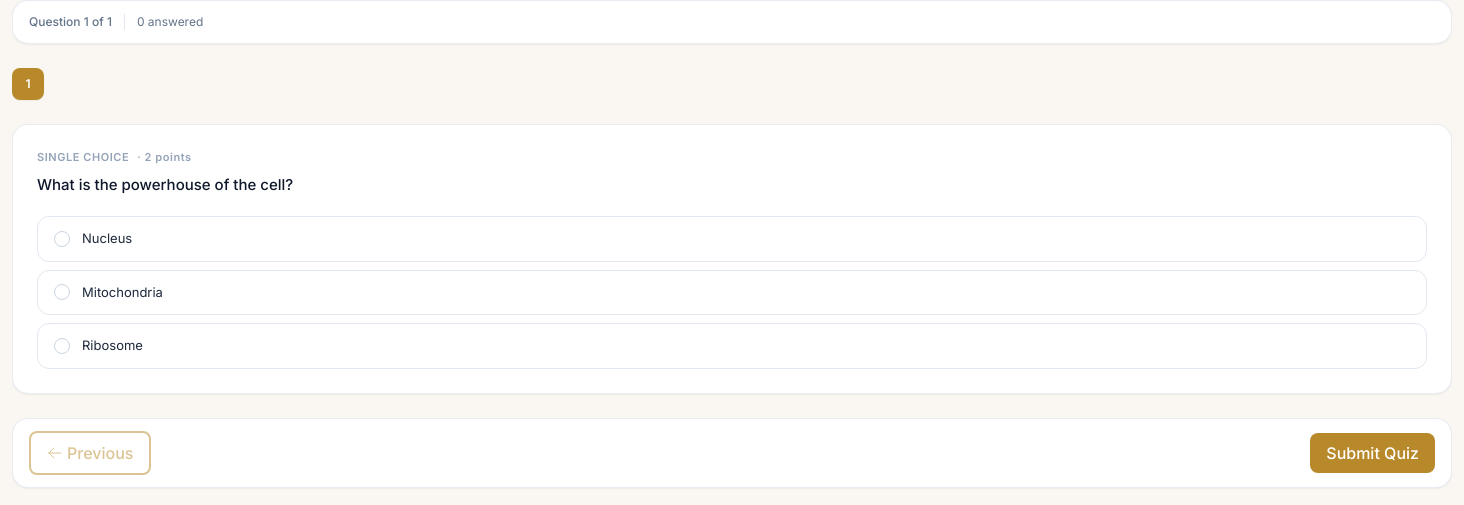
Test: QuizPlayerPage › shows "You passed!" heading after successful submission
The width and height of the screenshot is (1464, 505).
Check: the text "What is the powerhouse of the cell?" is shown, box [37,174,293,194]
Step 1. Click the button "Submit Quiz" → (1373, 452), box [1310,432,1435,472]
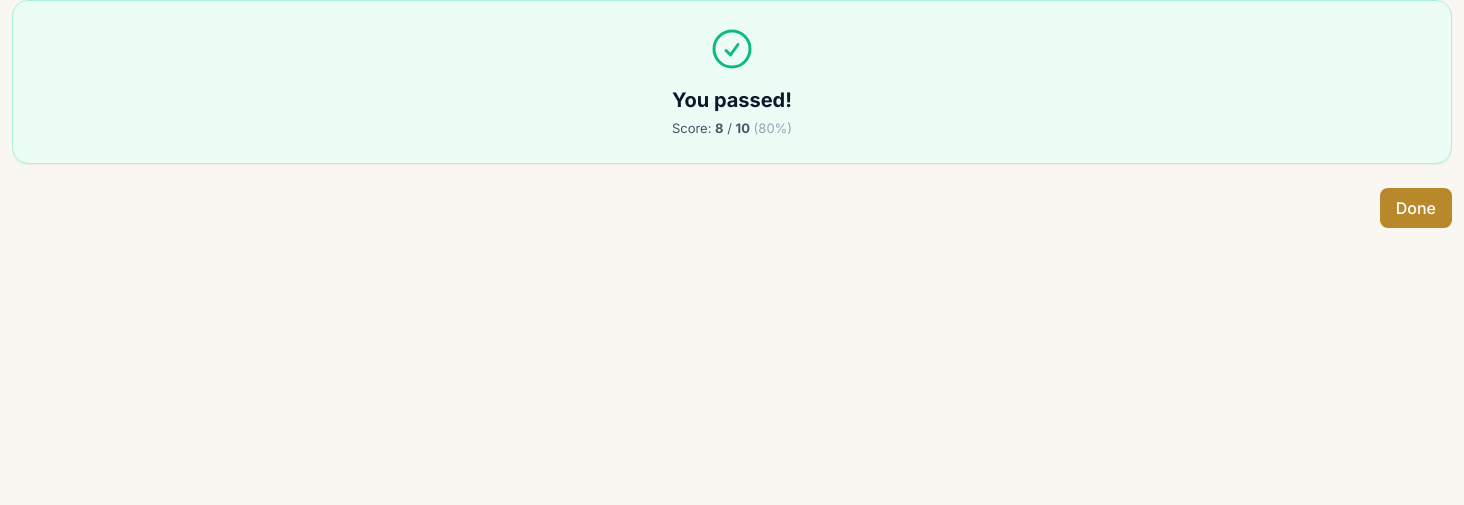
Check: the heading "You passed!" is shown, box [672,88,792,112]
